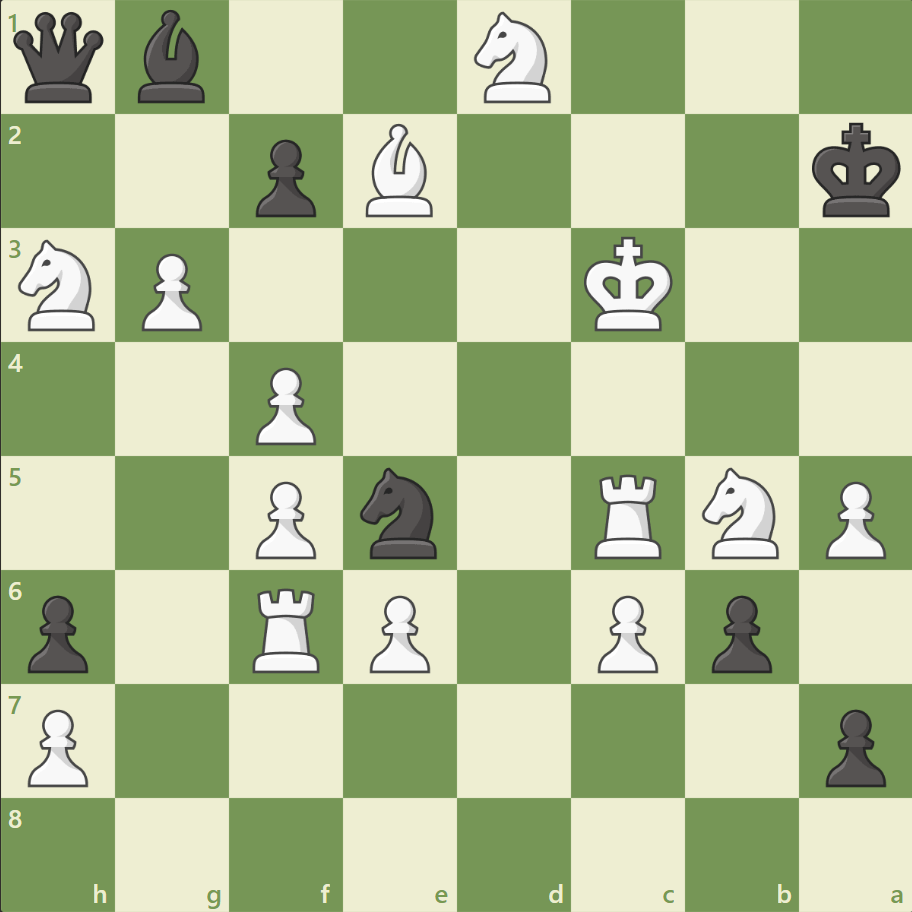B: (358, 120, 442, 222)
K: (579, 231, 679, 339)
N: (692, 461, 789, 564), (11, 234, 108, 337), (465, 7, 562, 110)
P: (20, 700, 95, 791), (247, 473, 322, 564), (247, 359, 322, 450), (133, 246, 208, 337), (588, 586, 662, 677), (361, 586, 435, 677), (815, 473, 889, 564)
R: (246, 579, 329, 676), (587, 466, 670, 563)
b: (131, 6, 215, 109)
k: (806, 117, 906, 225)
n: (351, 461, 449, 564)
p: (701, 586, 776, 677), (20, 586, 95, 677), (247, 132, 322, 223), (815, 700, 889, 791)
q: (10, 9, 109, 108)
